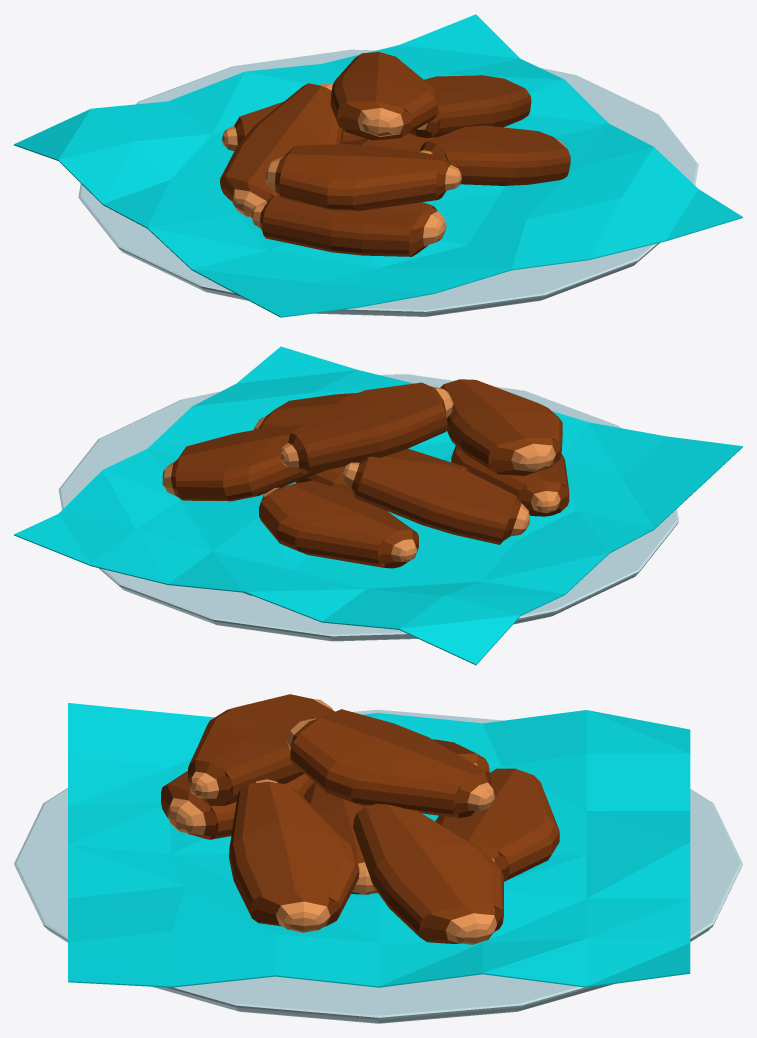
The model's file is chicken.fbx.
The picture shows the model from 3 angles, top to bottom: view 1: azimuth 30°, elevation 25°; view 2: azimuth 150°, elevation 25°; view 3: azimuth 270°, elevation 25°; orthographic projection. The views are drawn at different scales.
Parts seen in each view (by area): view 1: bake_paper.001, plate, wing.007, wing.004, wing.006, wing.003, wing.005, wing.002, wing.001, wing; view 2: bake_paper.001, plate, wing.003, wing.006, wing.001, wing.007, wing.002, wing.004, wing.005, wing; view 3: bake_paper.001, plate, wing.005, wing.002, wing.006, wing.007, wing.001, wing.004, wing.
Boxes of the visible parts, x1,y1,x2,y2 form: bake_paper.001: (14, 14, 742, 317); plate: (78, 49, 698, 316); wing.007: (265, 144, 461, 210); wing.004: (251, 195, 446, 256); wing.006: (330, 52, 438, 140); wing.003: (220, 83, 343, 217); wing.005: (419, 125, 570, 185); wing.002: (410, 75, 531, 138); wing.001: (222, 101, 366, 151); wing: (360, 133, 438, 151); bake_paper.001: (14, 346, 742, 665); plate: (58, 374, 678, 641); wing.003: (342, 456, 529, 544); wing.006: (279, 382, 453, 474); wing.001: (259, 480, 418, 568); wing.007: (440, 379, 562, 475); wing.002: (162, 425, 324, 501); wing.004: (451, 445, 569, 516); wing.005: (254, 393, 356, 429); wing: (295, 448, 469, 492); bake_paper.001: (68, 703, 690, 987); plate: (14, 709, 742, 1023); wing.005: (229, 779, 359, 932); wing.002: (353, 803, 503, 944); wing.006: (286, 709, 494, 817); wing.007: (188, 694, 334, 805); wing.001: (435, 768, 559, 881); wing.004: (161, 771, 314, 839); wing: (304, 783, 377, 894).
Size of the model in its own units: 116 by 23.84 by 116.
